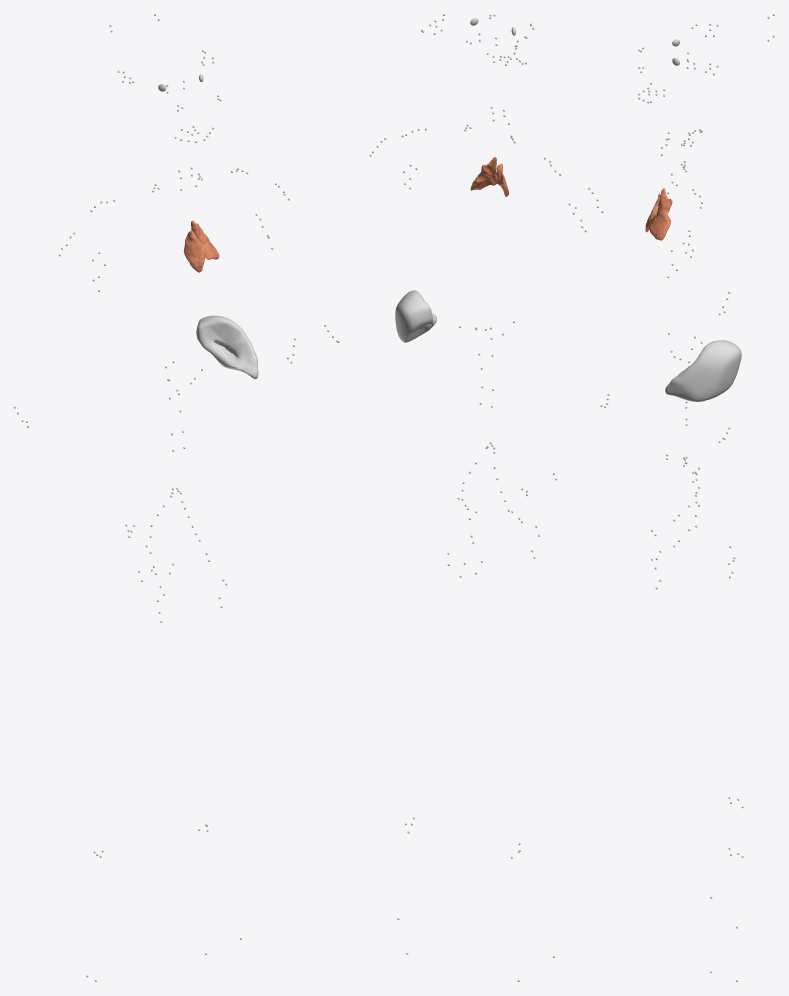
Rendered from lymphoid.glb.
3 views of the same model, side by side, from view 1: azimuth 30°, elevation 25°; view 2: azimuth 150°, elevation 25°; view 3: azimuth 270°, elevation 25° (orthographic).
Visible parts, largest first — view 1: Spleen, Right_lobe_of_thymus; view 2: Spleen; view 3: Spleen, Left_lobe_of_thymus.
Part boxes in pixels (bbox=[...]): Spleen: bbox=[196, 315, 258, 378]; Right_lobe_of_thymus: bbox=[183, 230, 205, 272]; Spleen: bbox=[395, 290, 436, 342]; Spleen: bbox=[665, 340, 741, 401]; Left_lobe_of_thymus: bbox=[649, 188, 672, 240].
Size of the model in its own units: 0.4019 by 1.28 by 0.1697.
